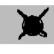not correct: (14, 7, 51, 41)
